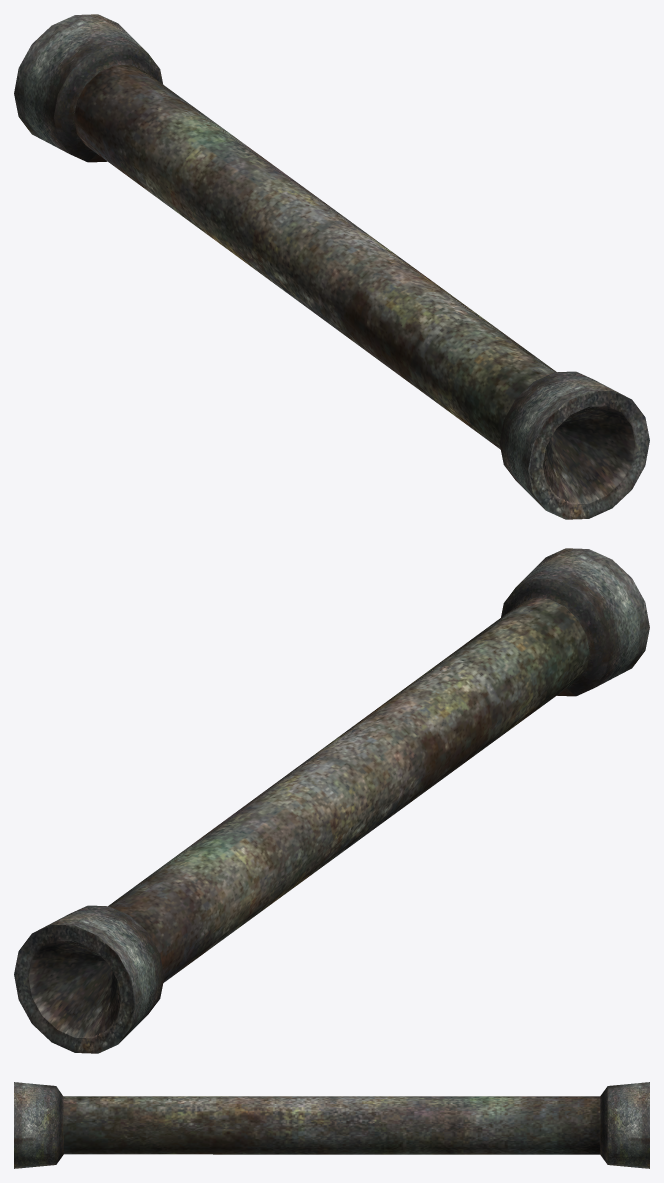
Rendered from pipe_small_short_pplant.dae.
3 views of the same model, one above another, from view 1: azimuth 30°, elevation 25°; view 2: azimuth 150°, elevation 25°; view 3: azimuth 270°, elevation 25° (orthographic). The views are drawn at different scales.
Visible parts, largest first — view 1: pipe_small_short_pplant; view 2: pipe_small_short_pplant; view 3: pipe_small_short_pplant.
Boxes of the visible parts, box(x1,y1,x2,y2) form: pipe_small_short_pplant: box(14, 14, 649, 519); pipe_small_short_pplant: box(14, 548, 649, 1053); pipe_small_short_pplant: box(14, 1082, 649, 1168).
Size of the model in its own units: 0.2051 by 0.2051 by 1.5.
